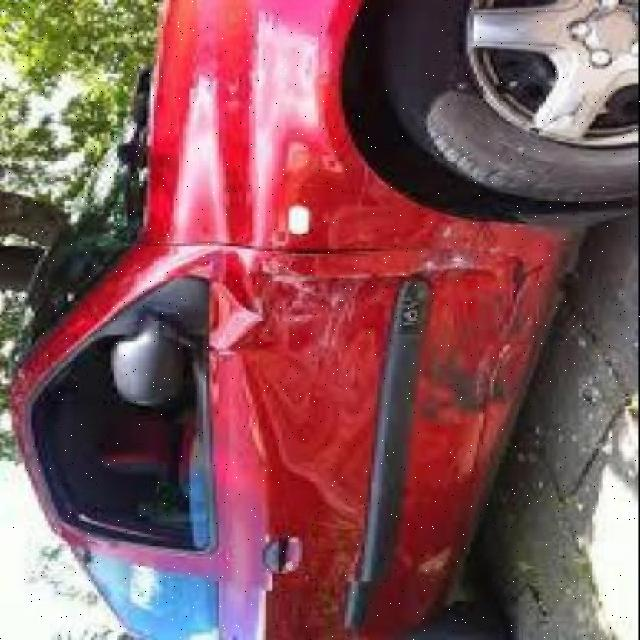damage: (207, 220, 554, 537)
